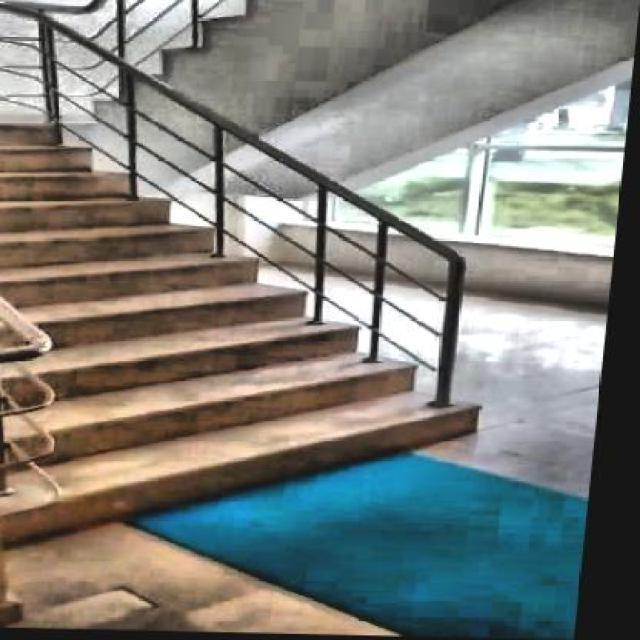stair: (1, 89, 514, 560)
